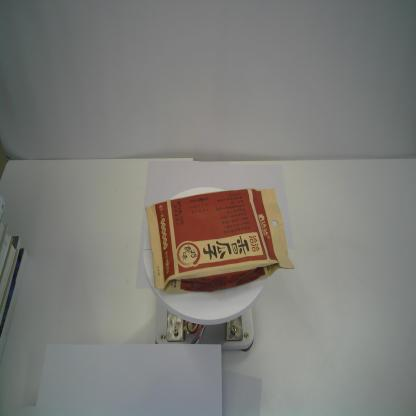Dried Food: (144, 186, 296, 296)
